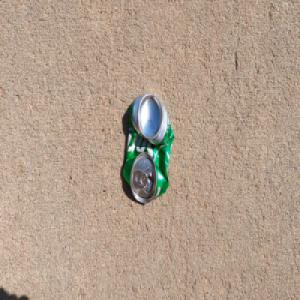SodaCan: (121, 90, 175, 205)
